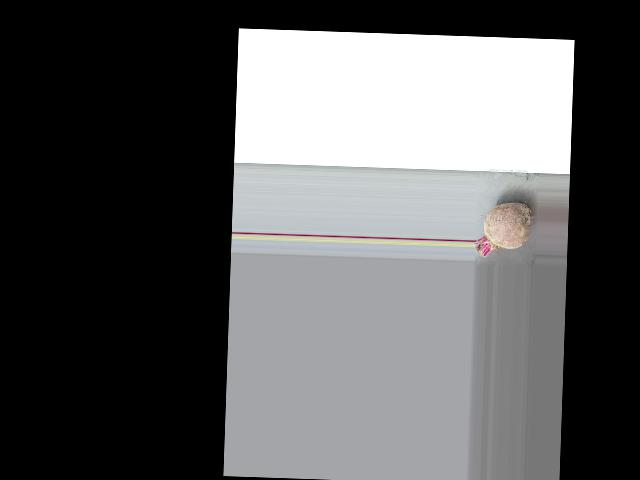beet: (474, 201, 532, 258)
